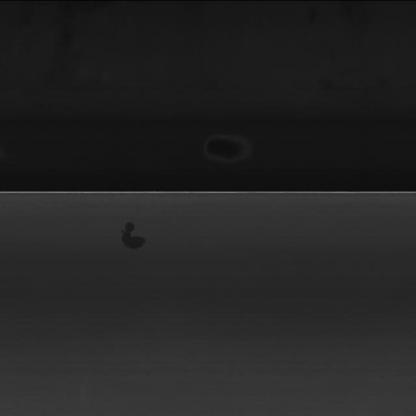oil_spot: (110, 216, 158, 255)
